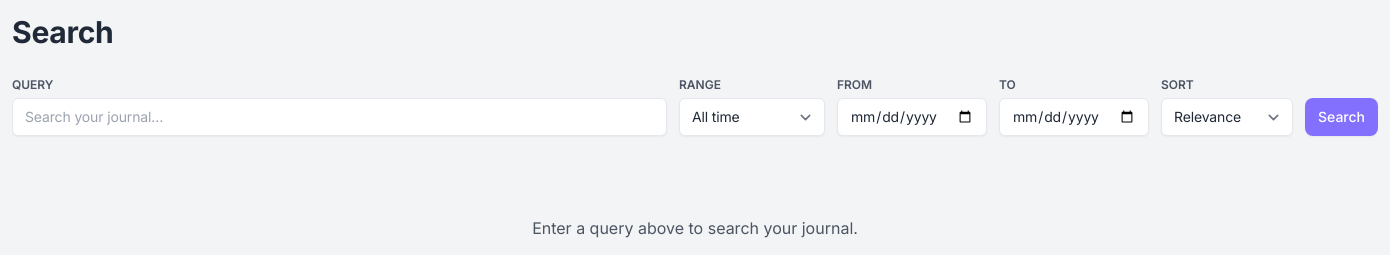
Test: SearchView › renders the empty state when the server returns zero items
Type "nothing" into the search field with test id "search-query-input" at (340, 117), box [12, 98, 667, 136]
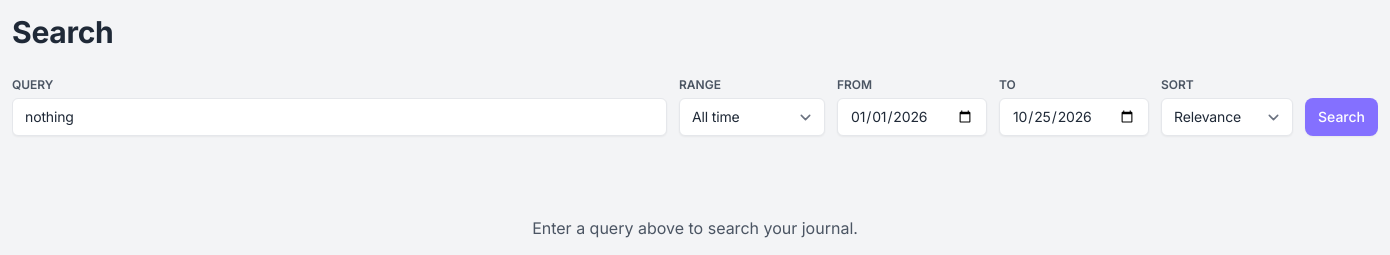
Submit the form with test id "search-form", box [12, 76, 1378, 136]
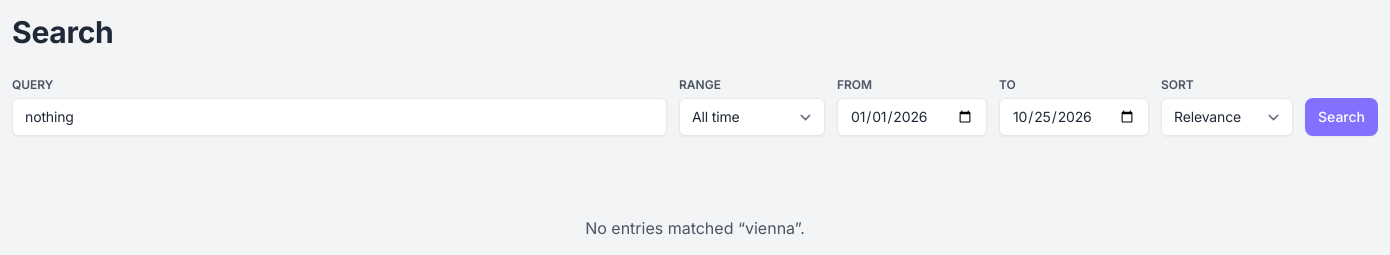
Expected: the text "No entries matched “vienna”." is shown, [585, 218, 805, 238]
